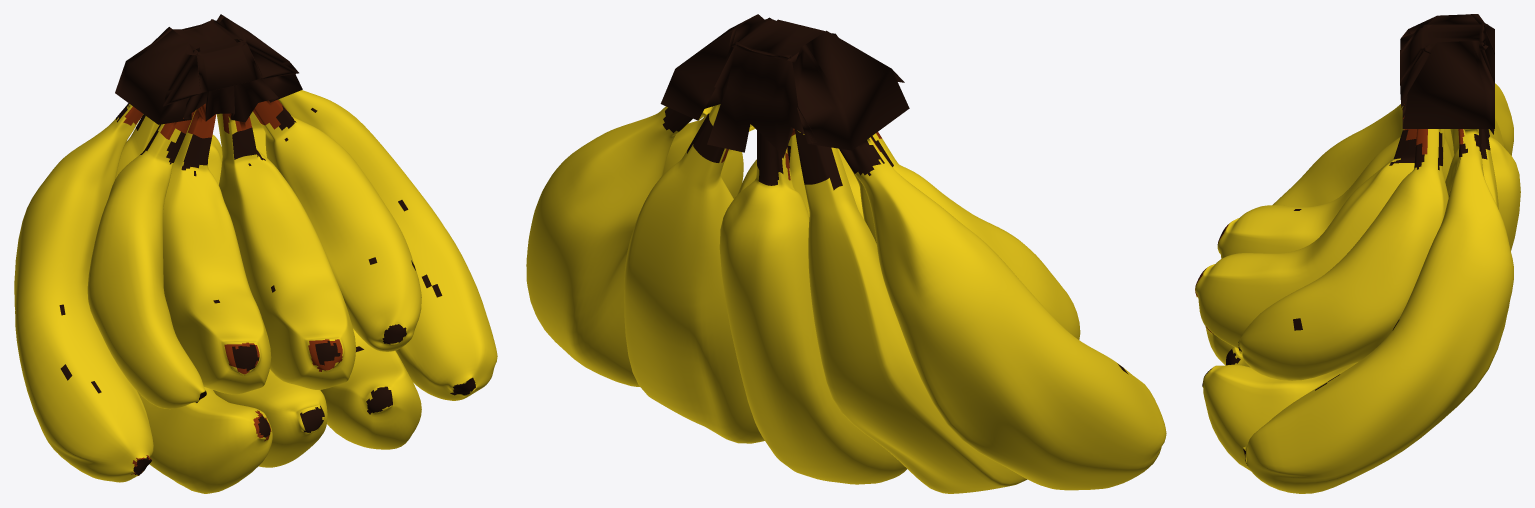
File: banana.glb
3 renders of one model, left to right at view 1: azimuth 30°, elevation 25°; view 2: azimuth 150°, elevation 25°; view 3: azimuth 270°, elevation 25°, orthographic. The views are drawn at different scales.
Visible parts, largest first — view 1: Banana_Whole; view 2: Banana_Whole; view 3: Banana_Whole.
Part boxes in pixels (left/top/right/bottom): Banana_Whole: left=14, top=14, right=497, bottom=493; Banana_Whole: left=526, top=14, right=1166, bottom=493; Banana_Whole: left=1195, top=14, right=1520, bottom=493.
Bounding box in the file's own units: 9.08 × 7.6 × 5.47.
